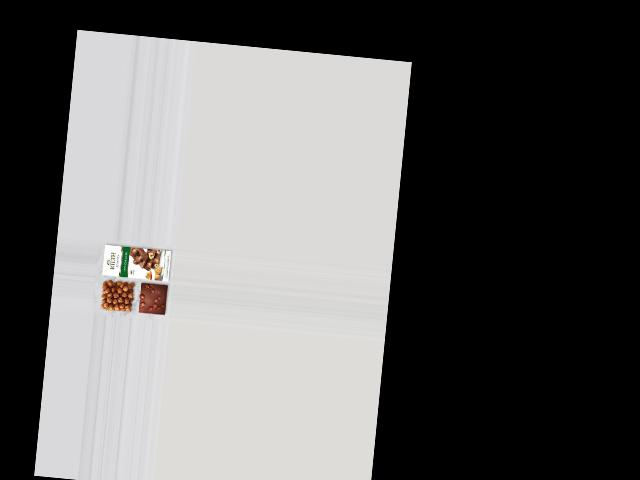chocolate: (137, 281, 169, 318)
